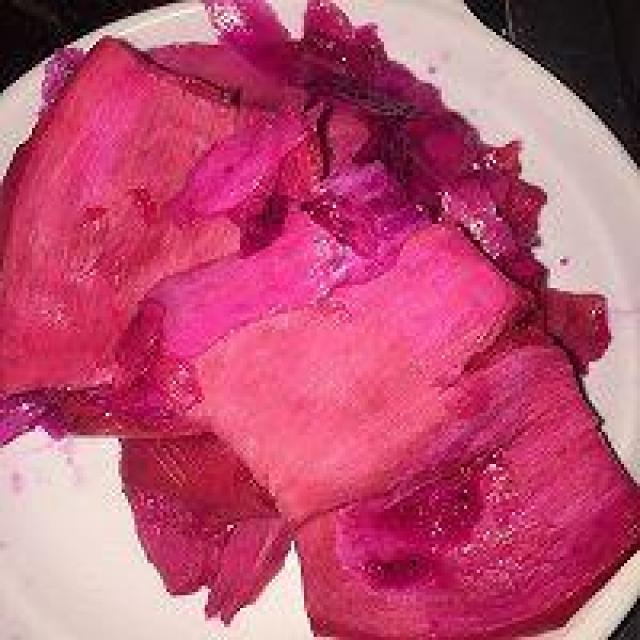Wet Waste: (0, 29, 637, 634)
